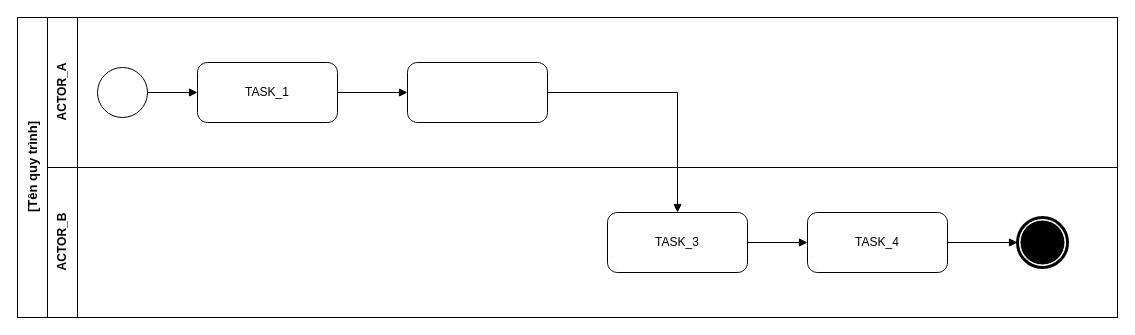
The diagram is 1135 pixels wide and 335 high, and some of its shapes have lost their labels. Each missing label, with the centre of its shape:
"Bắt đầu" goes at (122,92).
"Kết thúc" goes at (1042,242).
"TASK_2" goes at (477,92).
